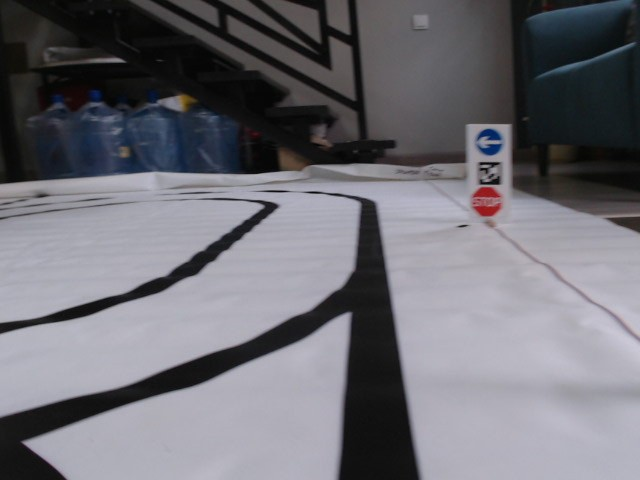Stop: (471, 186, 502, 217)
